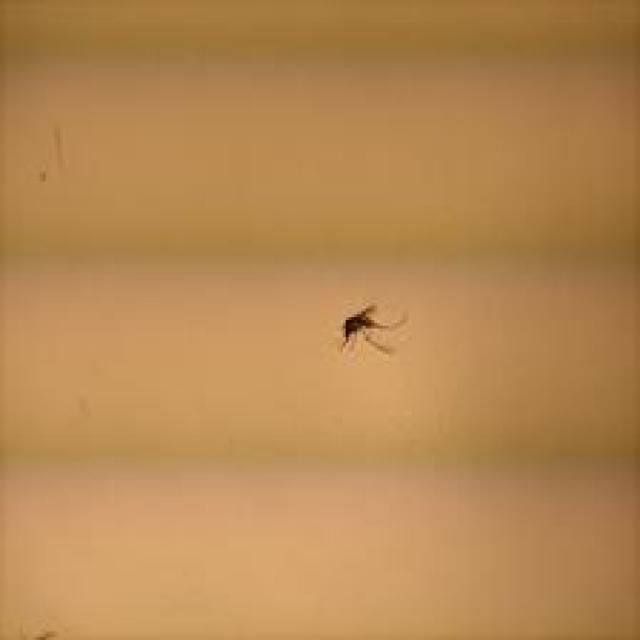Culex: (339, 301, 407, 356)
